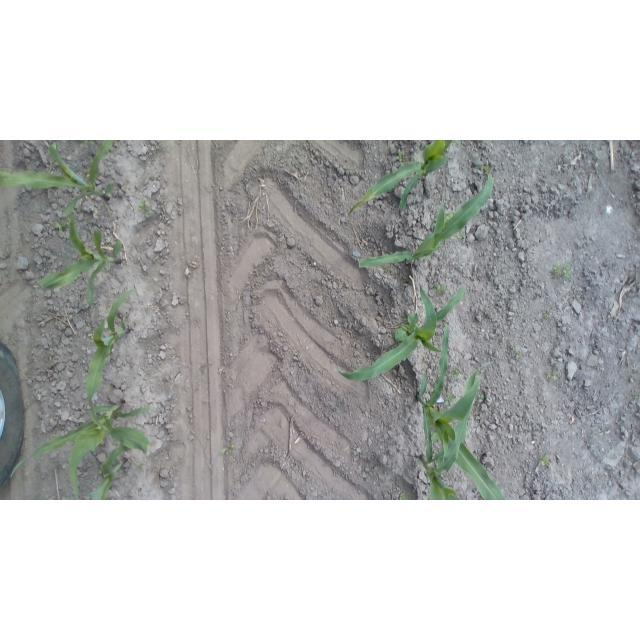Maize: (415, 317, 509, 500), (354, 166, 494, 272), (9, 402, 159, 500), (338, 280, 471, 385), (419, 361, 490, 500), (0, 140, 118, 222), (37, 213, 125, 310), (346, 140, 455, 218), (85, 284, 139, 412), (87, 441, 134, 500)
Weeds: (551, 263, 573, 281), (506, 341, 522, 363), (218, 442, 238, 459), (138, 199, 154, 218), (52, 217, 68, 235), (444, 391, 459, 408), (542, 369, 560, 383), (541, 454, 554, 471), (431, 284, 449, 296), (395, 152, 410, 163), (449, 366, 459, 381), (397, 491, 409, 500), (542, 309, 551, 319), (382, 265, 393, 273), (478, 394, 485, 404)
